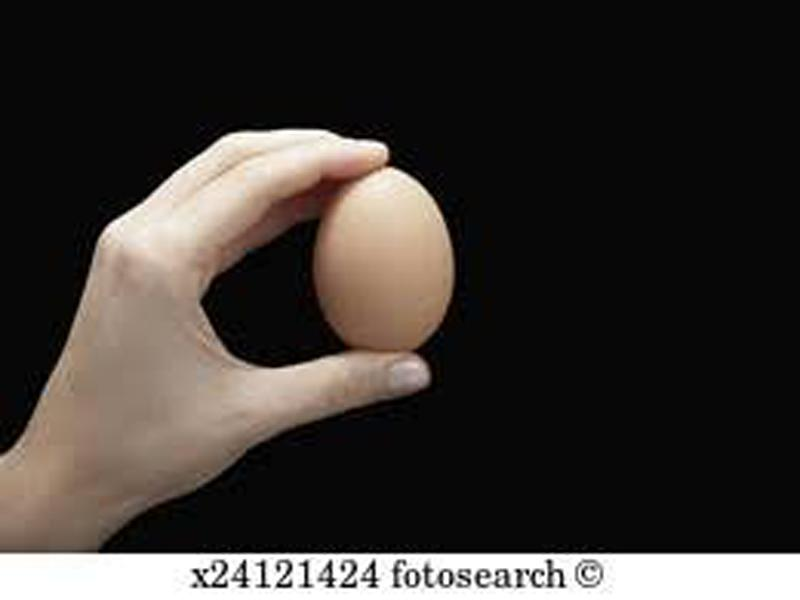Eggs: (314, 161, 452, 353)
